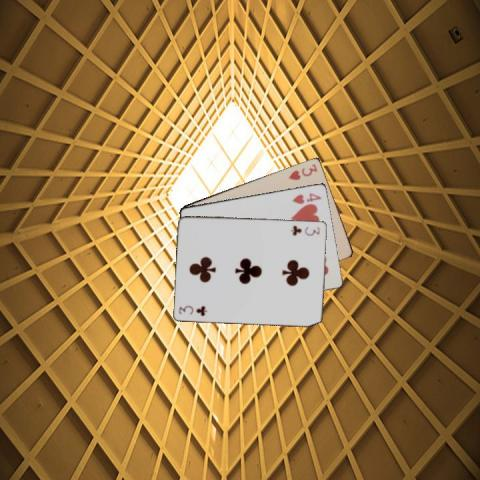3c: (288, 222, 321, 237), (176, 303, 209, 317)
3h: (285, 161, 319, 181)
4h: (289, 190, 323, 204)
